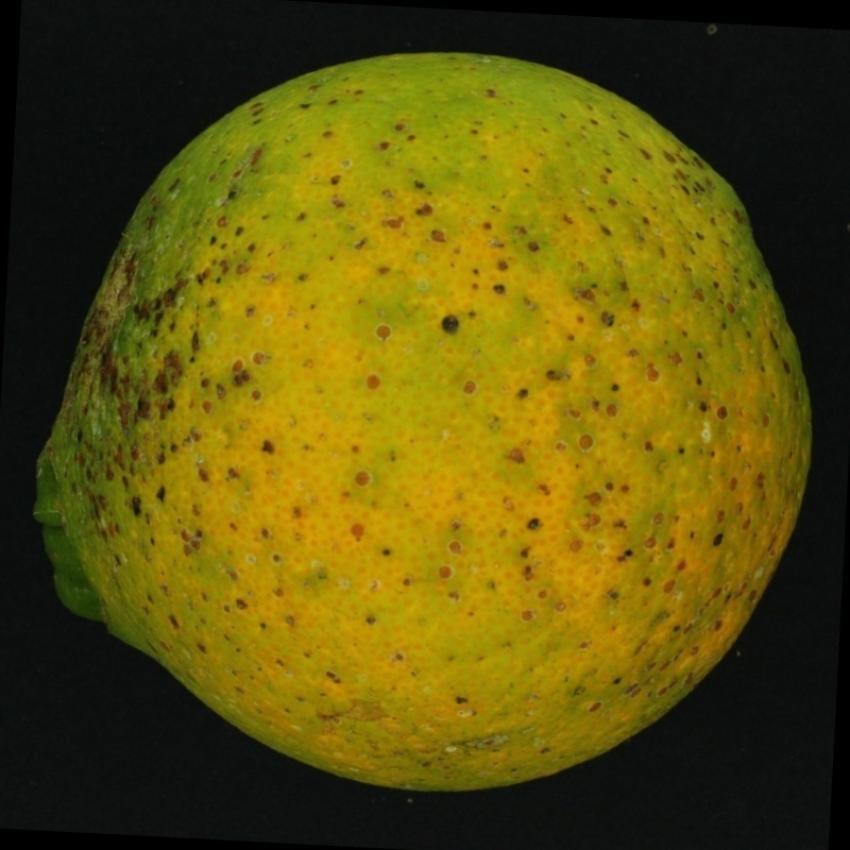Mal estado: (33, 41, 821, 801)
